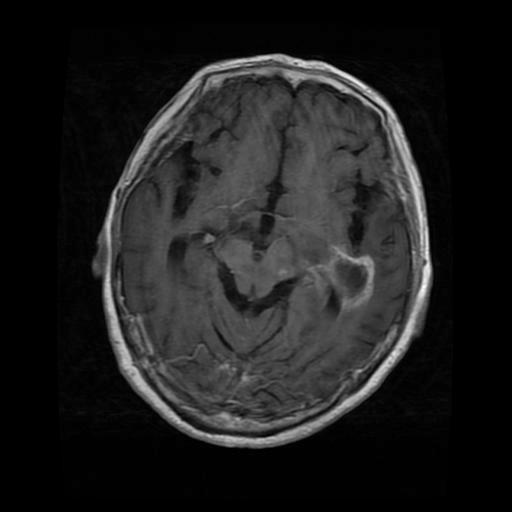Tumour-Glioma: (316, 241, 391, 325)
